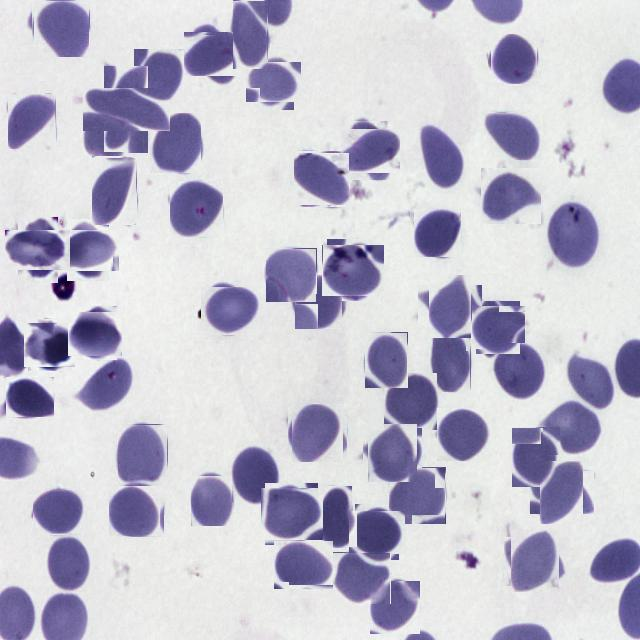red blood cell: (94, 76, 158, 142), (547, 201, 600, 270), (481, 168, 541, 224), (32, 0, 90, 57), (324, 242, 382, 299), (389, 467, 446, 524), (134, 49, 184, 113), (263, 486, 320, 542), (507, 534, 563, 590), (75, 358, 133, 412), (118, 424, 168, 486), (495, 343, 547, 402), (150, 113, 201, 173), (92, 157, 137, 225), (290, 405, 345, 460), (168, 181, 222, 237), (384, 373, 437, 430), (333, 552, 391, 604), (543, 403, 600, 455), (274, 540, 334, 589), (110, 482, 164, 536), (534, 466, 588, 520), (295, 152, 349, 206), (366, 426, 420, 480), (512, 427, 560, 487), (203, 284, 256, 338), (83, 98, 126, 164), (437, 408, 490, 461), (484, 112, 542, 160), (266, 248, 317, 302), (420, 125, 464, 187), (567, 350, 614, 408), (344, 125, 396, 177), (62, 224, 114, 276), (188, 28, 240, 80), (424, 280, 476, 332), (12, 224, 64, 276), (8, 93, 56, 149), (46, 534, 92, 592), (370, 581, 420, 634), (294, 276, 344, 328), (352, 508, 402, 558), (70, 308, 120, 358), (232, 448, 277, 502), (233, 0, 268, 69), (365, 332, 408, 388), (433, 331, 471, 392), (250, 58, 298, 106), (26, 321, 74, 369), (490, 35, 538, 83), (474, 304, 522, 352), (414, 209, 461, 257), (191, 475, 234, 526), (33, 490, 84, 533), (318, 486, 352, 548), (6, 377, 54, 417)
